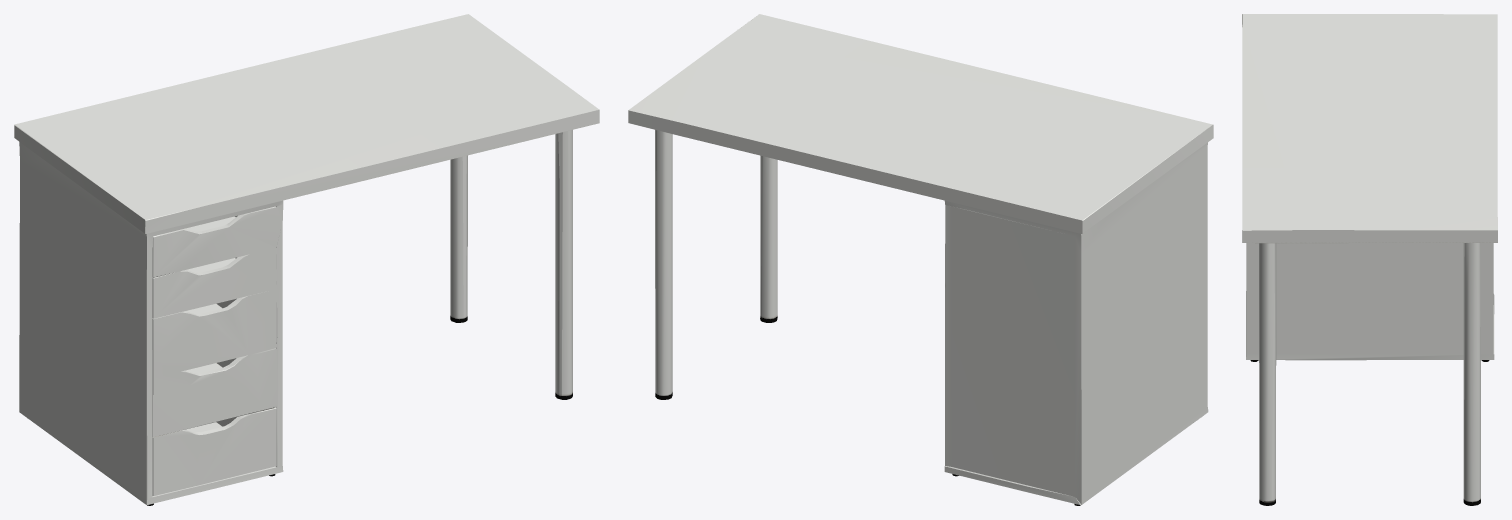
Rendered from 7-LAGKAPTEN ALEX desk - white (69416817).glb.
The picture shows the model from 3 angles, left to right: view 1: azimuth 30°, elevation 25°; view 2: azimuth 150°, elevation 25°; view 3: azimuth 270°, elevation 25°; orthographic projection. The views are drawn at different scales.
Parts seen in each view (by area): view 1: ProcessedMeshNode; view 2: ProcessedMeshNode; view 3: ProcessedMeshNode.
Boxes of the visible parts, x1,y1,x2,y2 form: ProcessedMeshNode: (14, 14, 599, 505); ProcessedMeshNode: (628, 14, 1213, 505); ProcessedMeshNode: (1242, 14, 1497, 505).
Size of the model in its own units: 1.2 by 0.7355 by 0.6006.
Materials: 1 (1 with a texture image).
